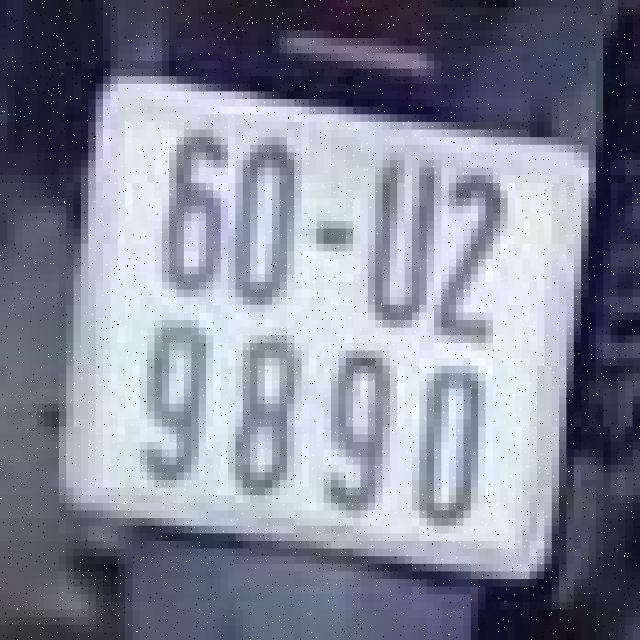0: (232, 133, 305, 301), (412, 347, 478, 522)
2: (442, 156, 508, 354)
6: (154, 122, 236, 312)
8: (232, 324, 298, 499)
9: (316, 331, 398, 522), (140, 304, 220, 488)
U: (357, 137, 438, 328)
